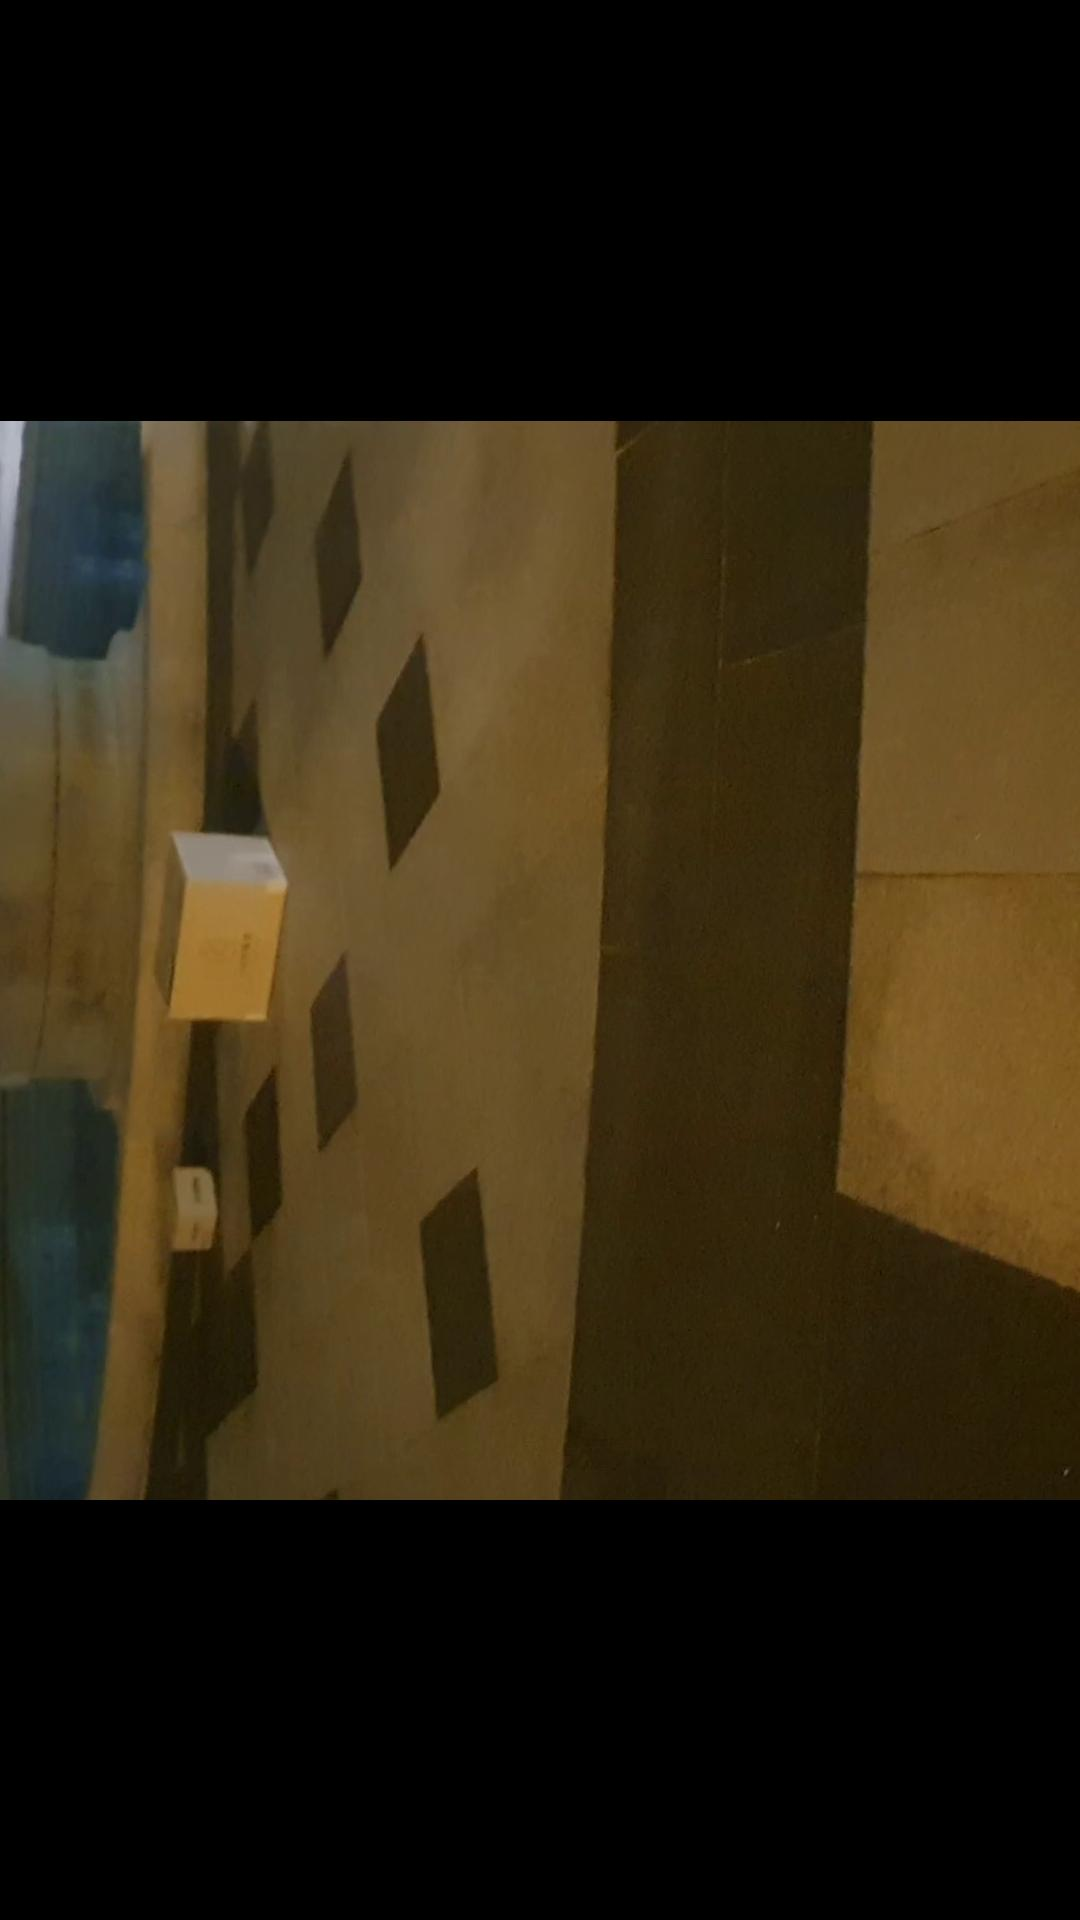Box: (145, 828, 290, 1027), (142, 1156, 223, 1259)
